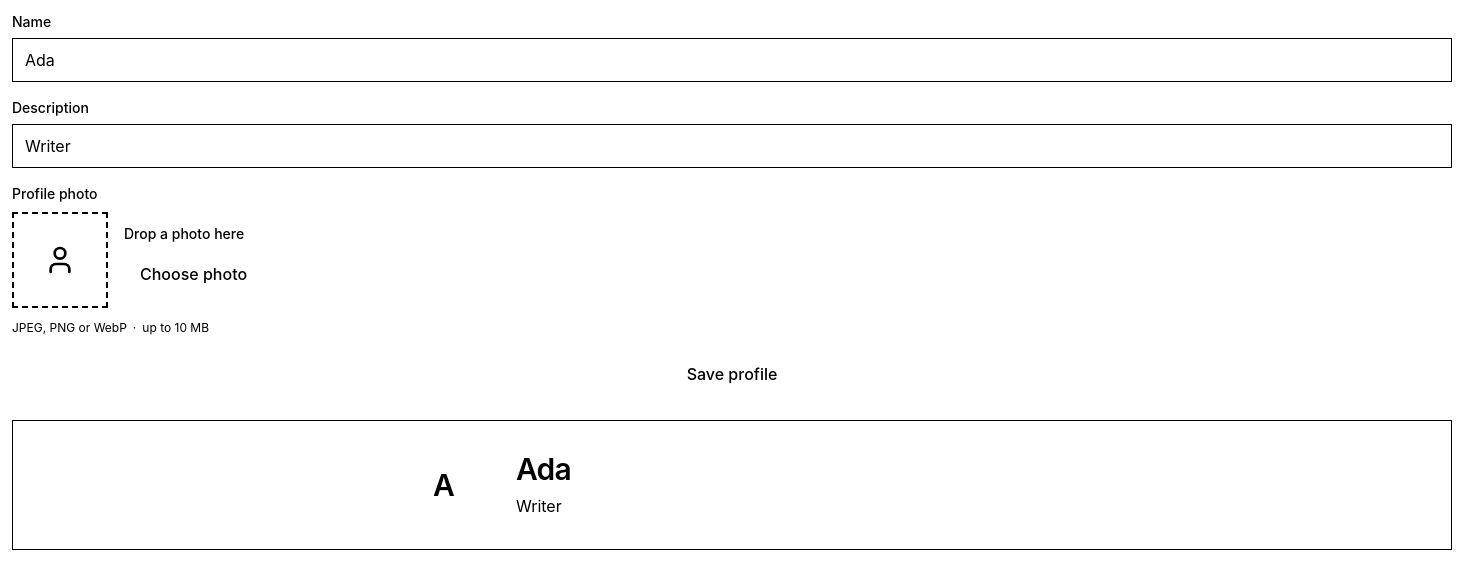
Test case: ProfileForm › Given typing, should update the live preview
The width and height of the screenshot is (1464, 567).
Replace the text in the field labelled "Name" with "Grace" at (732, 60), box left=12, top=38, right=1452, bottom=82
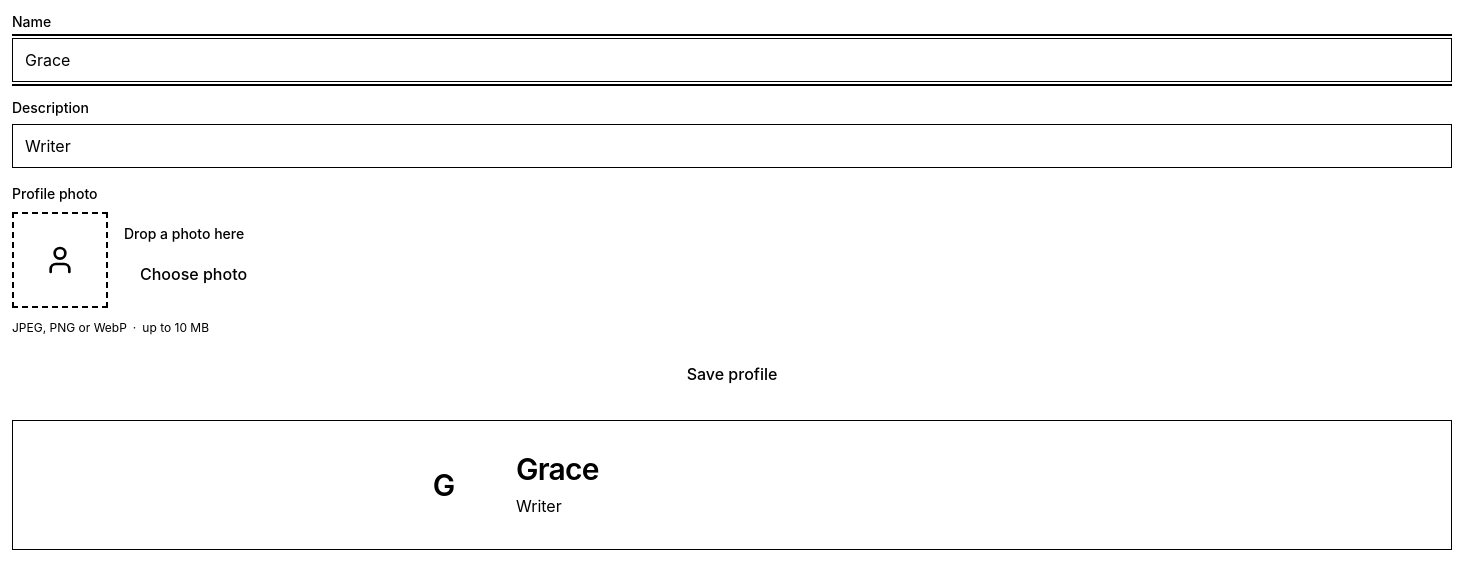
Now the heading "Grace" is shown, box left=516, top=451, right=599, bottom=489
